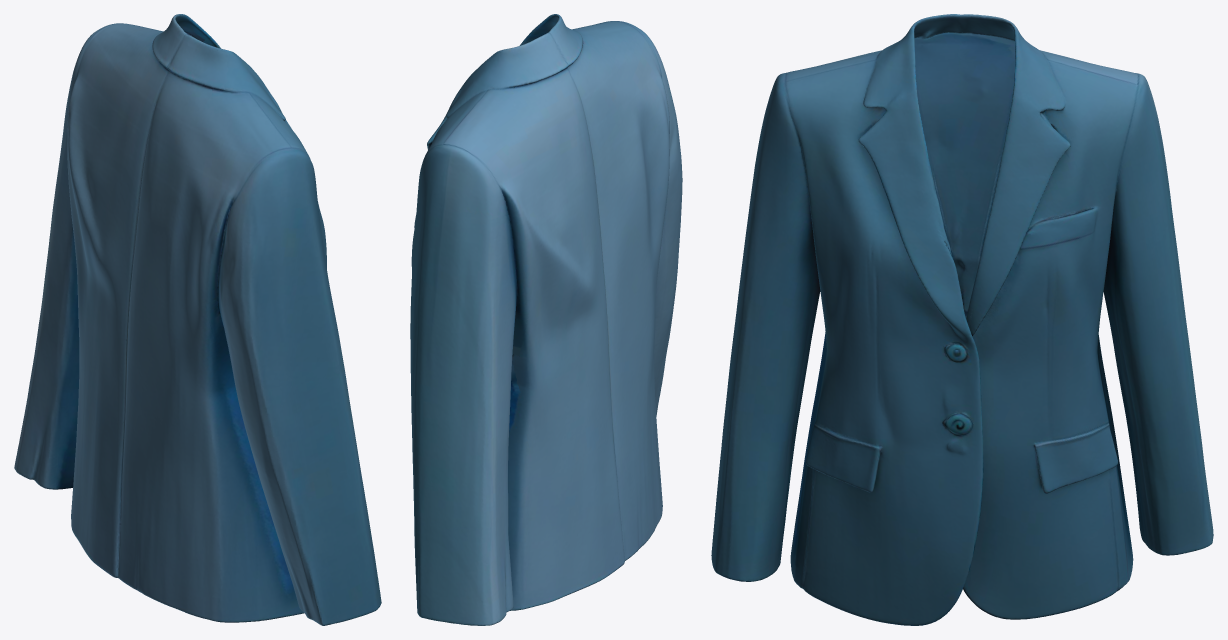
File: 37f9302b-aea0-4a86-aa0e-b79af17f45a0_hS7skqu-xmZKRfYuqdtQS_tripo_model_e3c4e626-f4e8-4219-9cb9-a8b4726b894f.glb
3 views of the same model, side by side, from view 1: azimuth 30°, elevation 25°; view 2: azimuth 150°, elevation 25°; view 3: azimuth 270°, elevation 25° (orthographic). The views are drawn at different scales.
Visible parts, largest first — view 1: tripo_node_e3c4e626-f4e8-4219-9cb9-a8b4726b894f; view 2: tripo_node_e3c4e626-f4e8-4219-9cb9-a8b4726b894f; view 3: tripo_node_e3c4e626-f4e8-4219-9cb9-a8b4726b894f.
Part boxes in pixels (x1,y1,x2,y2): tripo_node_e3c4e626-f4e8-4219-9cb9-a8b4726b894f: (14,14,381,625); tripo_node_e3c4e626-f4e8-4219-9cb9-a8b4726b894f: (410,14,682,625); tripo_node_e3c4e626-f4e8-4219-9cb9-a8b4726b894f: (711,14,1213,625).
Size of the model in its own units: 0.3758 by 1 by 0.807.
Materials: 1 (1 with a texture image).
